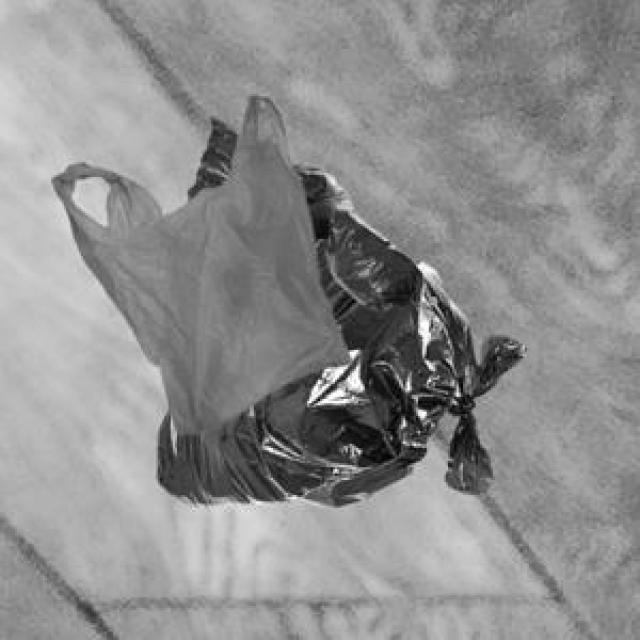miscellaneous trash: (156, 163, 523, 504), (184, 113, 418, 307)
